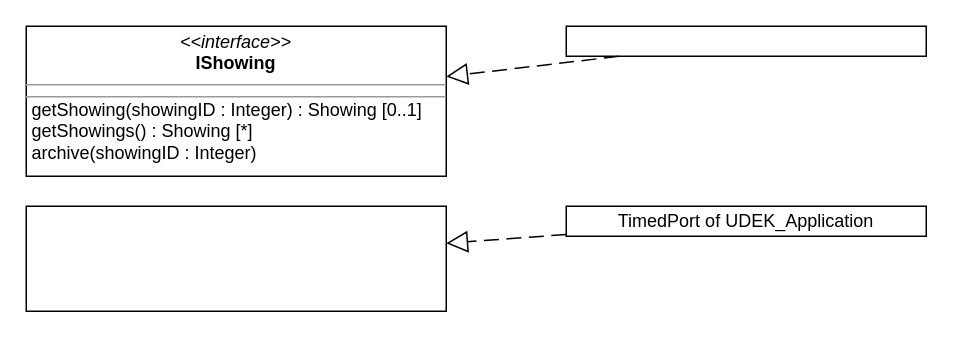
Image size: 953x338. Some labels were removed from this diagram. The centre of each missing label's shape, as x and y in pixels:
<<interface>> ITimed checkStarted(): (x=235, y=258)
ShowingPort of ShowingAdapter: (x=745, y=40)
